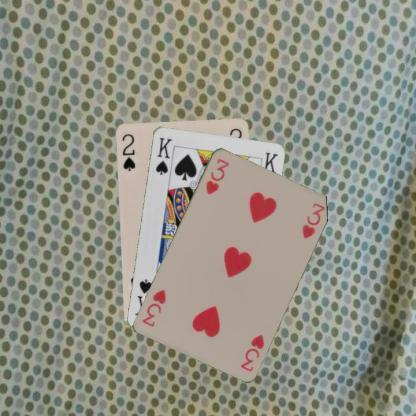2s: (119, 130, 136, 172)
3h: (202, 155, 230, 196), (238, 331, 265, 373)
Ks: (152, 134, 174, 176)
